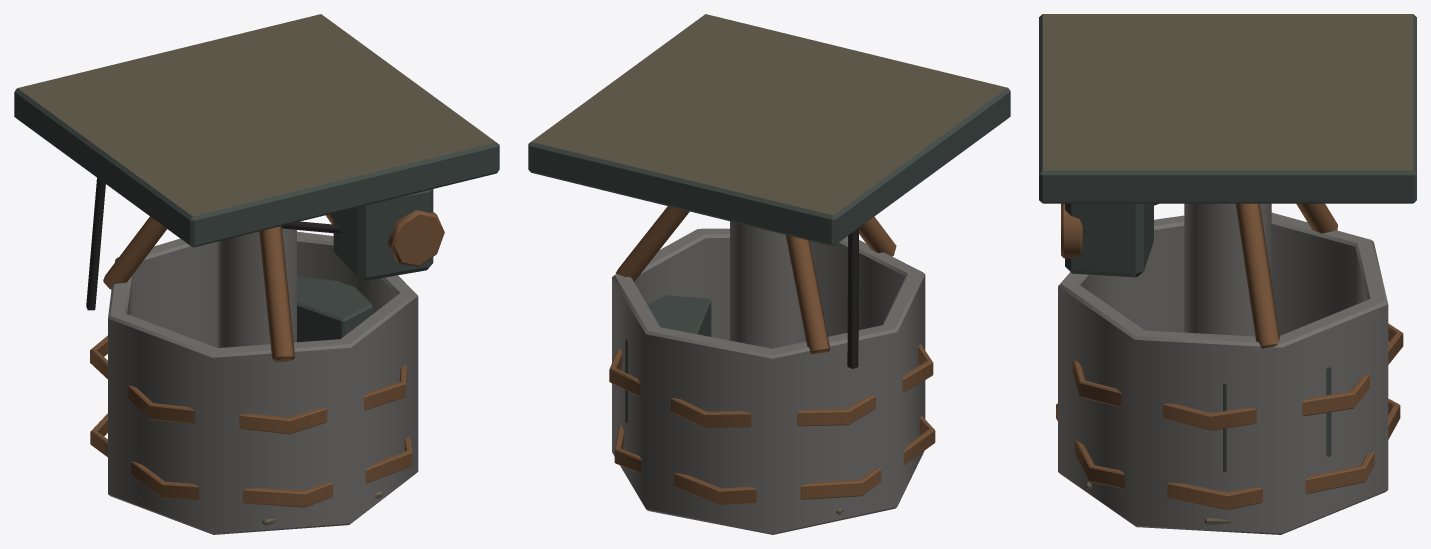
Rendered from R4M_HoverEngine_LOD1.fbx.
3 renders of one model, left to right at view 1: azimuth 30°, elevation 25°; view 2: azimuth 150°, elevation 25°; view 3: azimuth 270°, elevation 25°, orthographic. The views are drawn at different scales.
Visible parts, largest first — view 1: R4M_HoverEngine_LOD1; view 2: R4M_HoverEngine_LOD1; view 3: R4M_HoverEngine_LOD1.
Part boxes in pixels (x1,y1,x2,y2): R4M_HoverEngine_LOD1: [14, 14, 499, 534]; R4M_HoverEngine_LOD1: [528, 14, 1010, 534]; R4M_HoverEngine_LOD1: [1039, 14, 1416, 534].
Size of the model in its own units: 0.52 by 0.57 by 0.52.
